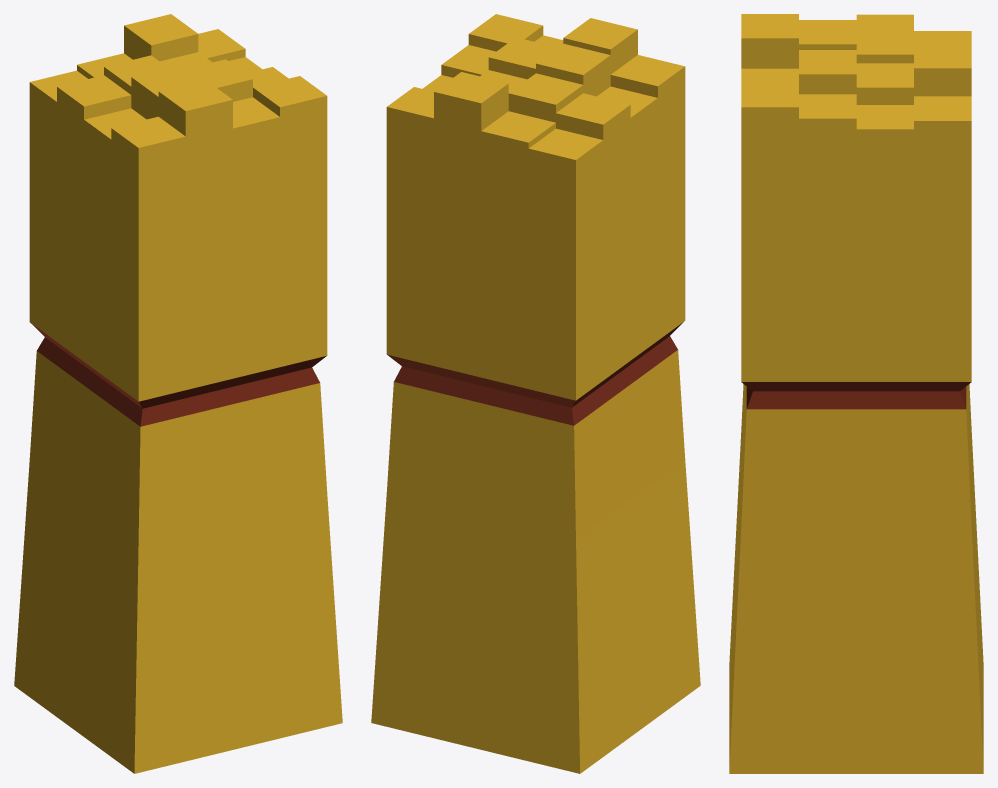
File: SK_Mock.fbx
The picture shows the model from 3 angles, left to right: view 1: azimuth 30°, elevation 25°; view 2: azimuth 150°, elevation 25°; view 3: azimuth 270°, elevation 25°; orthographic projection. The views are drawn at different scales.
Visible parts, largest first — view 1: Cube; view 2: Cube; view 3: Cube.
Boxes of the visible parts, x1,y1,x2,y2 form: Cube: (14, 14, 342, 773); Cube: (371, 14, 700, 773); Cube: (729, 14, 983, 773).
Size of the model in its own units: 221 by 653 by 221.
